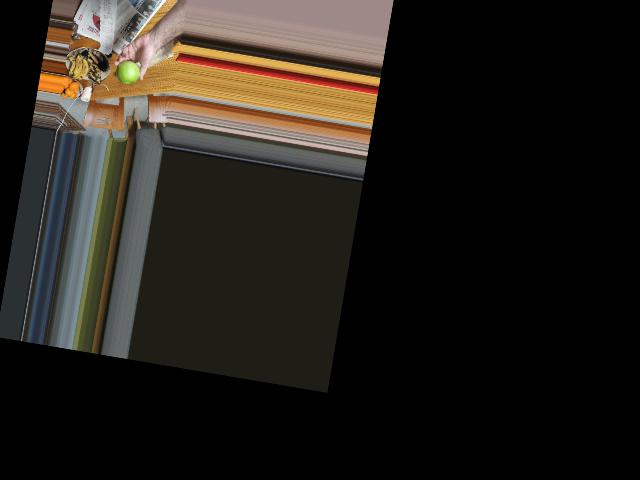apple: (113, 57, 141, 84)
